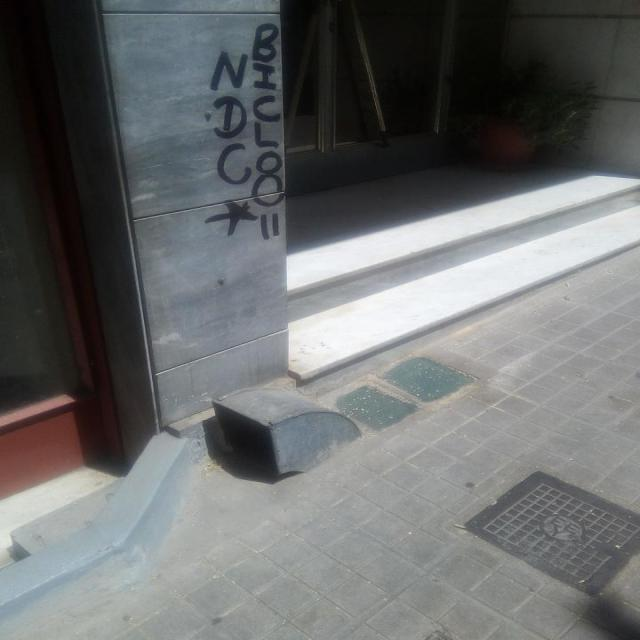nonspitting: (202, 20, 286, 238)
